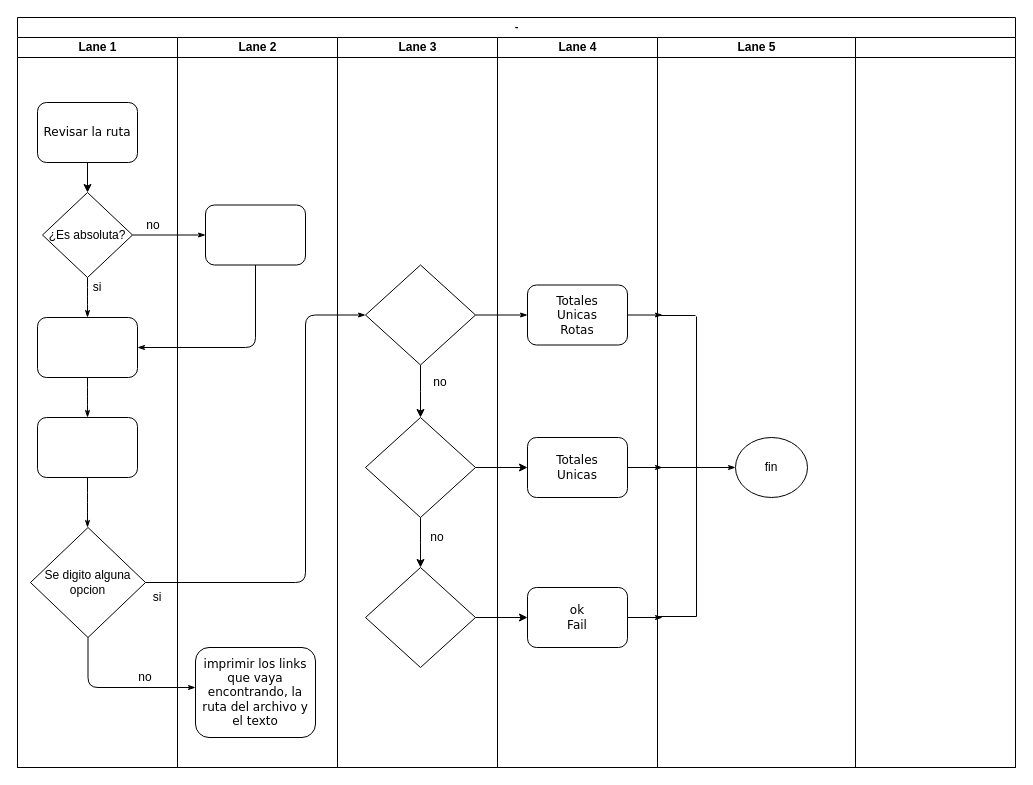
Some shapes in this 1033 by 785 pixel diagram are drawn without their labels. Each missing label, with the centre of its shape:
"- - stats" belongs at point 420,467.
"- - stats - - validate" belongs at point 420,314.
"- - validate" belongs at point 420,617.
"convertir a ruta absoluta" belongs at point 255,234.
"Identificar si hay opciones en el Input" belongs at point 87,447.
"Lane 6" belongs at point 935,402.
"Leer el archivo Markdown" belongs at point 87,347.
